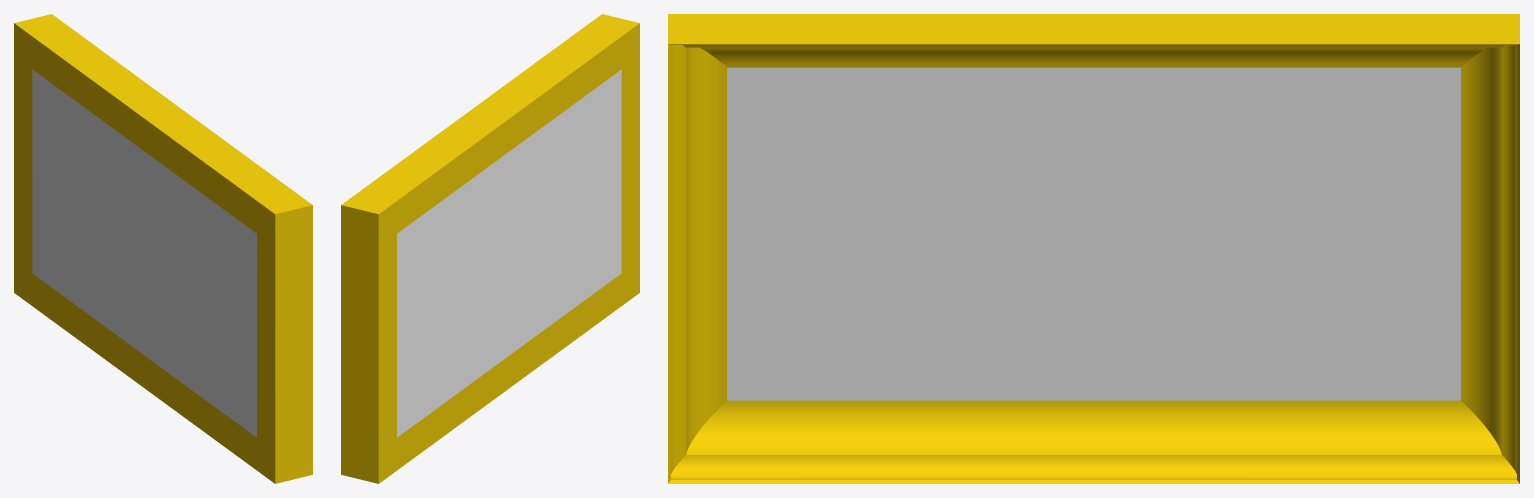
Rendered from Picture Frame.fbx.
3 views of the same model, side by side, from view 1: azimuth 30°, elevation 25°; view 2: azimuth 150°, elevation 25°; view 3: azimuth 270°, elevation 25° (orthographic). The views are drawn at different scales.
Visible parts, largest first — view 1: Model; view 2: Model; view 3: Model.
Boxes of the visible parts, x1,y1,x2,y2 form: Model: (14, 14, 312, 483); Model: (341, 14, 639, 483); Model: (668, 14, 1519, 483).
Bounding box in the file's own units: 41.62 × 285 × 500.
